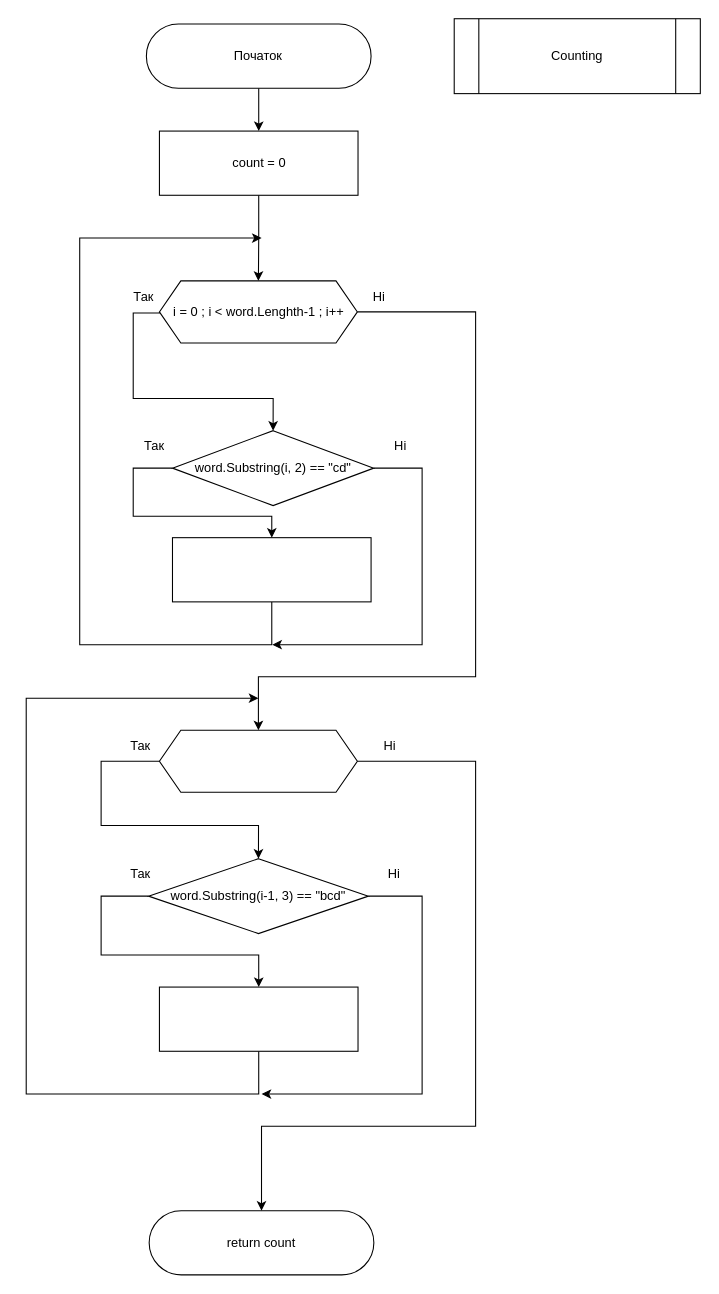
The diagram is 719 pixels wide and 1294 high, and some of its shapes have lost their labels. Here are the shapes that lost their labels. From the top down, the centre of each, then its label:
[271,569]: count++
[257,760]: i = 1 ; i < word.Lenghth-1 ; i++
[258,1018]: word = word.Remove(i, 2);
